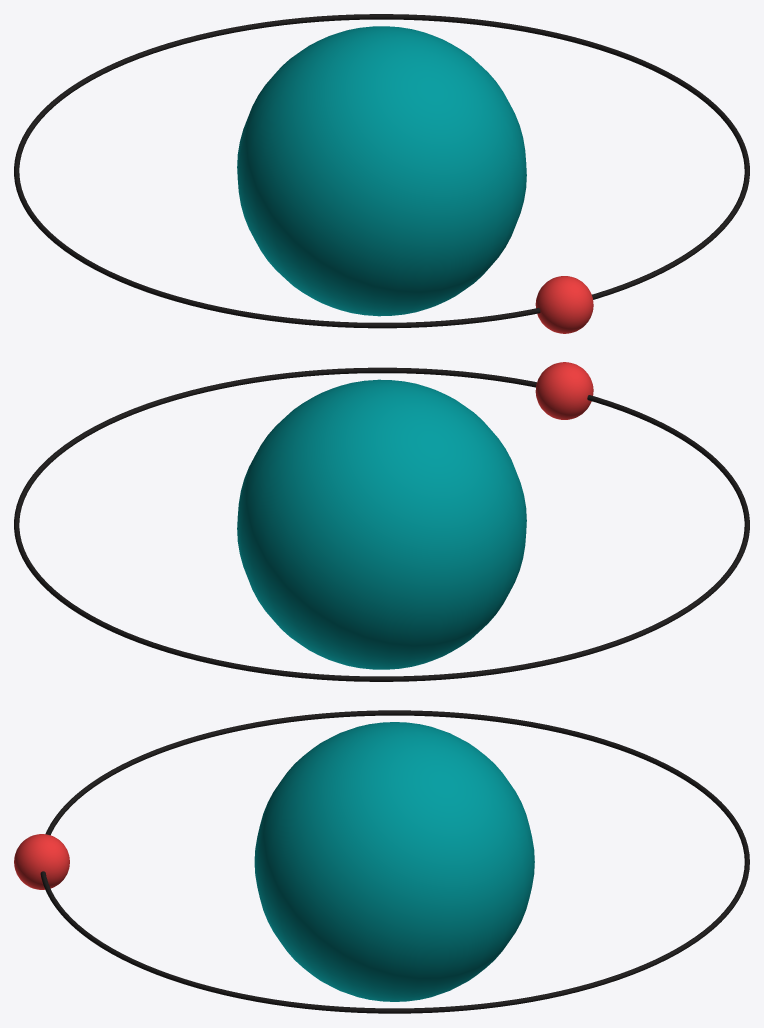
File: hydrogen.glb
3 renders of one model, top to bottom at view 1: azimuth 30°, elevation 25°; view 2: azimuth 150°, elevation 25°; view 3: azimuth 270°, elevation 25°, orthographic. The views are drawn at different scales.
Parts seen in each view (by area): view 1: Sphere.001, BezierCircle, Sphere; view 2: Sphere.001, BezierCircle, Sphere; view 3: Sphere.001, BezierCircle, Sphere.
Part boxes in pixels (x1,y1,x2,y2): Sphere.001: [237, 26, 526, 316]; BezierCircle: [14, 14, 749, 328]; Sphere: [535, 276, 593, 333]; Sphere.001: [237, 379, 526, 669]; BezierCircle: [14, 367, 749, 681]; Sphere: [535, 362, 593, 419]; Sphere.001: [254, 722, 534, 1001]; BezierCircle: [40, 710, 749, 1013]; Sphere: [14, 834, 69, 889].
Bounding box in the file's own units: 5.07 × 2 × 5.25.
